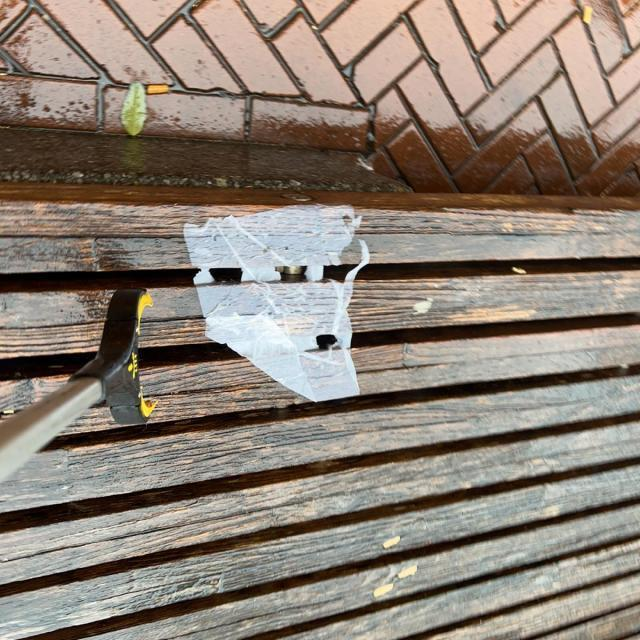Paper: (182, 201, 372, 406)
